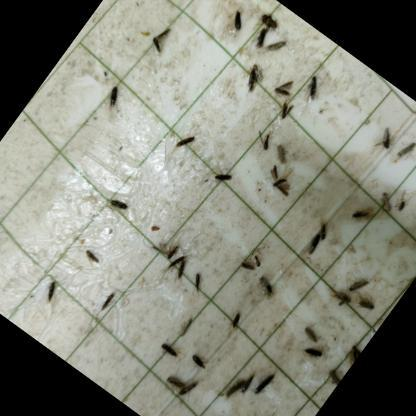prays_oleae: (164, 115, 214, 169), (256, 164, 300, 206), (244, 367, 284, 412), (293, 66, 334, 108), (95, 73, 134, 117), (140, 23, 178, 65), (102, 186, 140, 223), (249, 269, 286, 306), (323, 279, 360, 316), (235, 60, 270, 98), (368, 123, 401, 161), (206, 164, 240, 199), (265, 135, 299, 170), (90, 285, 124, 320), (263, 74, 296, 110), (223, 370, 256, 406), (148, 230, 182, 263), (31, 275, 65, 308), (349, 288, 382, 321), (78, 242, 112, 274), (228, 248, 260, 282), (153, 338, 185, 370), (367, 188, 399, 220), (224, 6, 256, 37), (243, 25, 273, 58), (262, 35, 292, 68), (388, 137, 416, 172), (248, 122, 278, 154), (186, 346, 218, 376), (296, 318, 328, 348), (253, 8, 283, 38), (170, 254, 198, 286), (345, 200, 372, 229), (271, 98, 298, 126), (182, 271, 208, 299), (162, 248, 186, 278), (301, 343, 327, 369), (300, 233, 325, 260), (220, 310, 244, 338), (348, 269, 372, 295), (312, 218, 336, 242), (178, 313, 198, 335), (248, 248, 268, 270), (0, 233, 6, 259)
